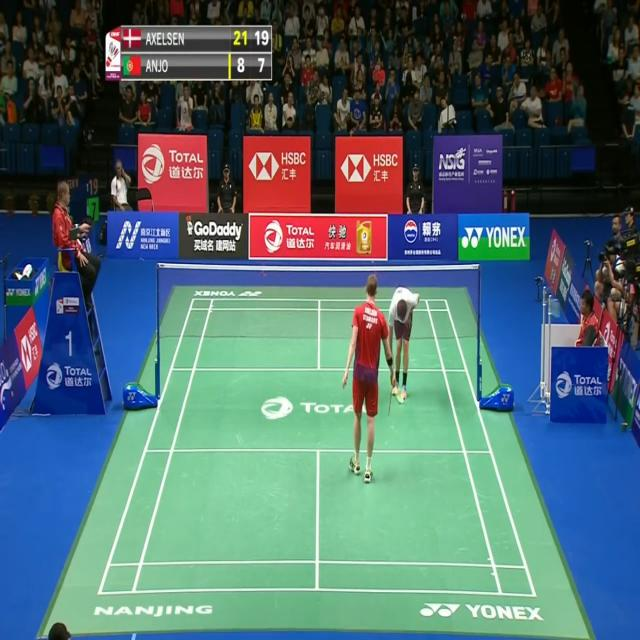Player1: (337, 270, 401, 494)
Player2: (382, 281, 426, 409)
